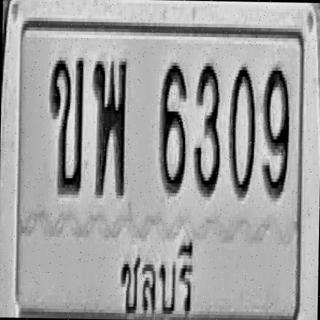A02: (47, 55, 84, 193)
A30: (90, 56, 127, 197)
N00: (228, 63, 256, 198)
N03: (193, 59, 221, 197)
N06: (159, 59, 187, 193)
N09: (262, 64, 290, 198)
P13: (114, 220, 198, 320)
